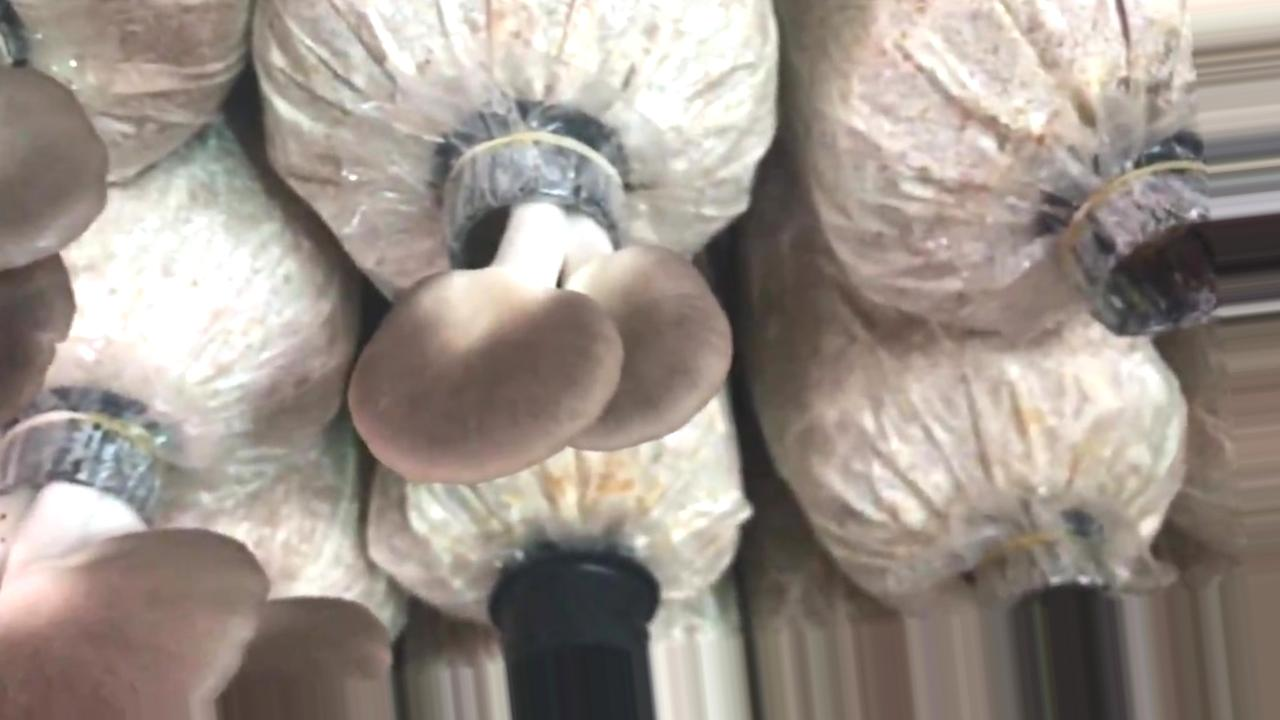nam: (349, 120, 723, 481), (1, 412, 392, 716)
